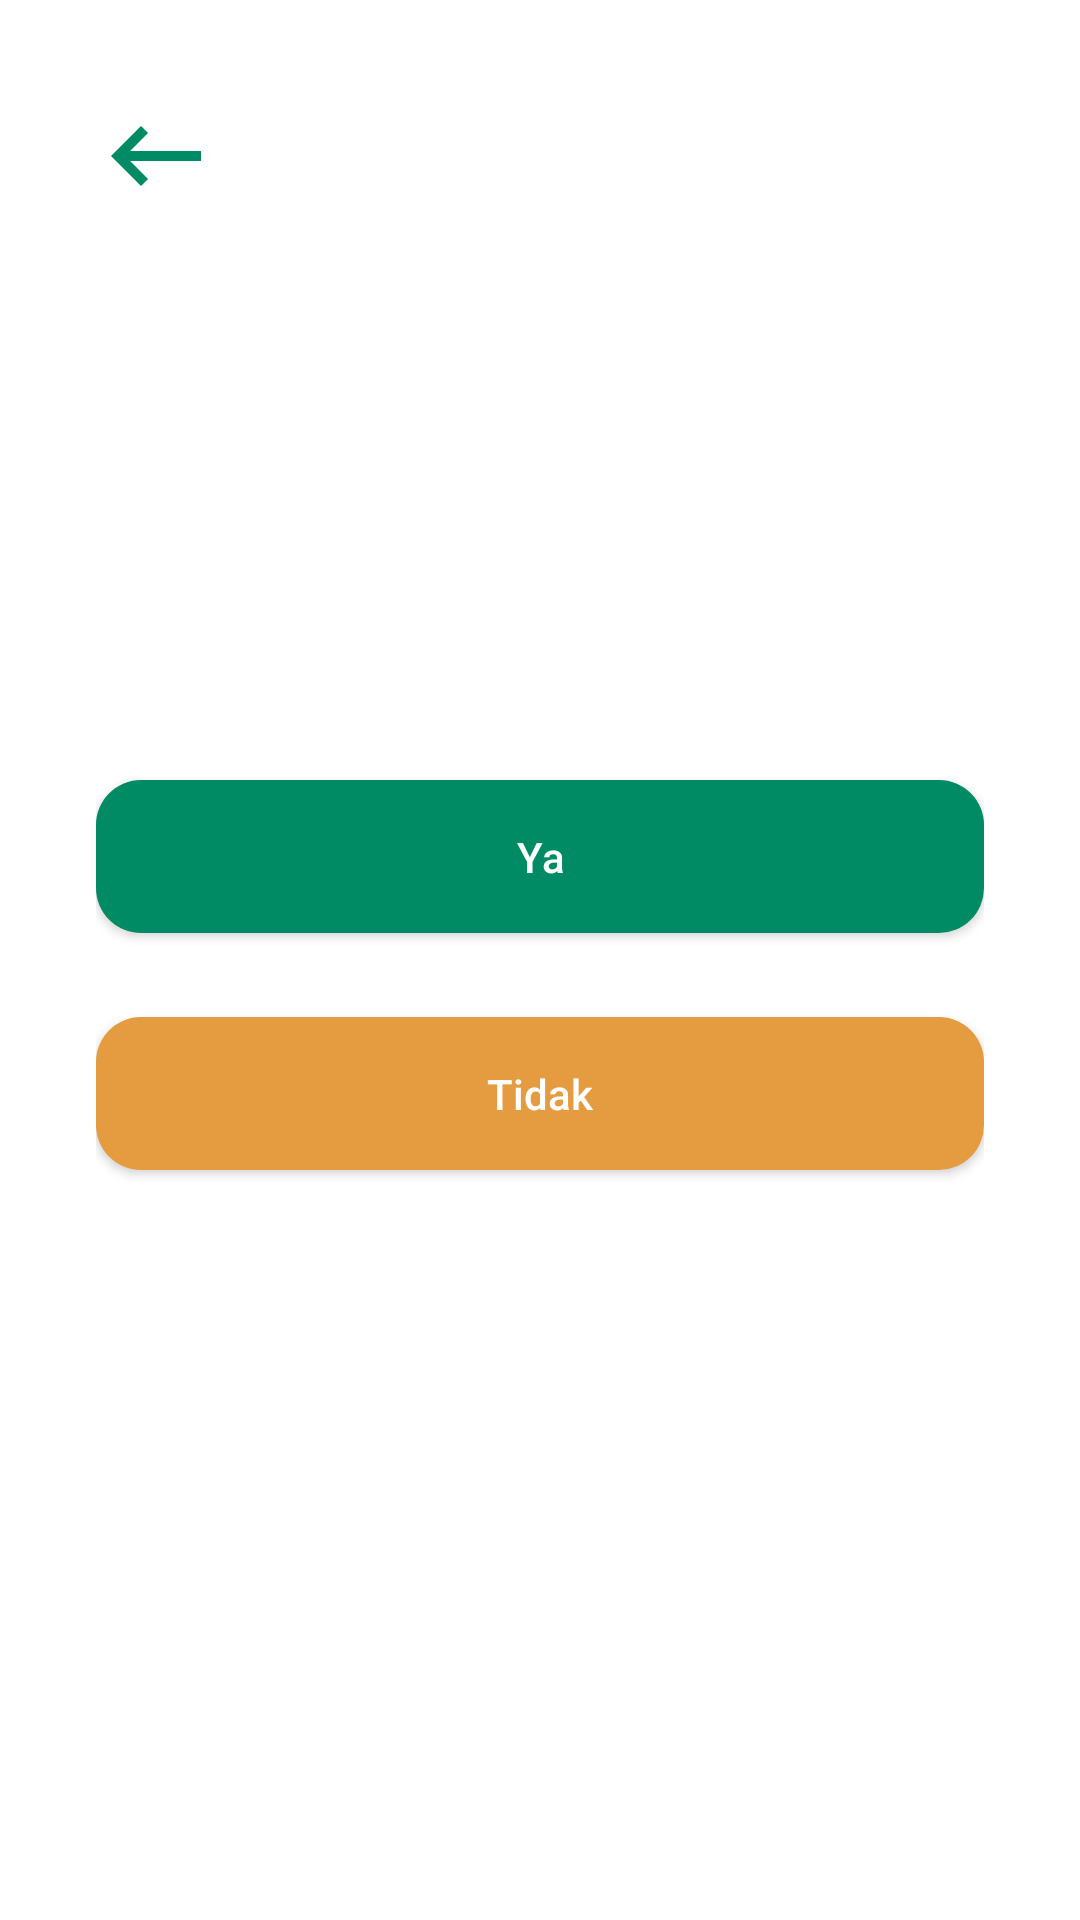

Icon click points for this 1080px×1920px phone screenshot, format (x=x, y=y):
arrow back: (x=156, y=156)
